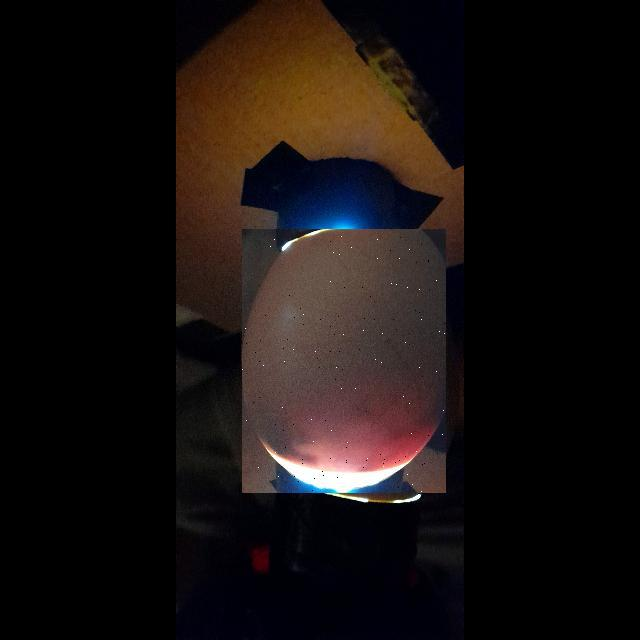Fertile: (242, 229, 446, 493)
